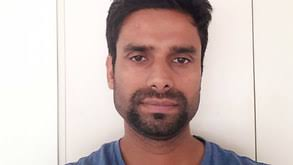Indian_Male: (114, 28, 201, 126)
